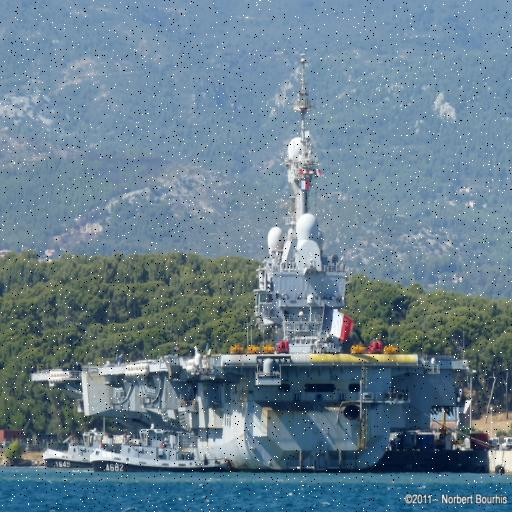Portanaves: (31, 69, 473, 474)
